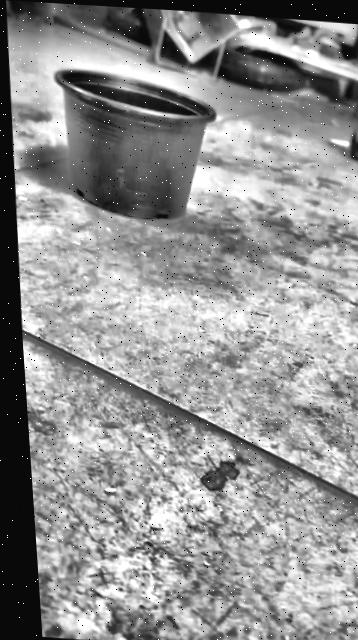pot: (50, 65, 222, 226)
